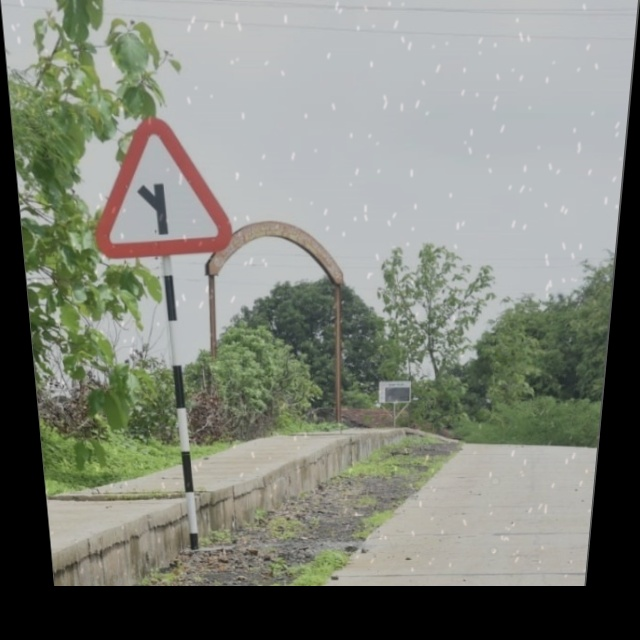Y_Intersection: (98, 121, 230, 251)
